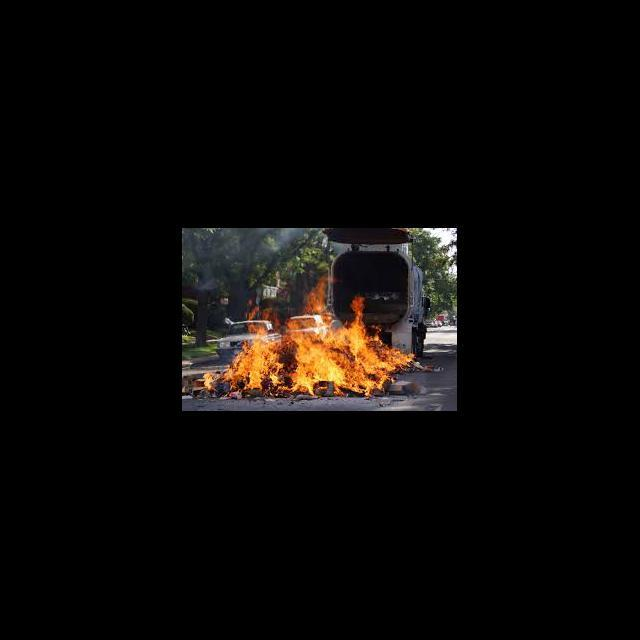Fire: (203, 277, 417, 400)
